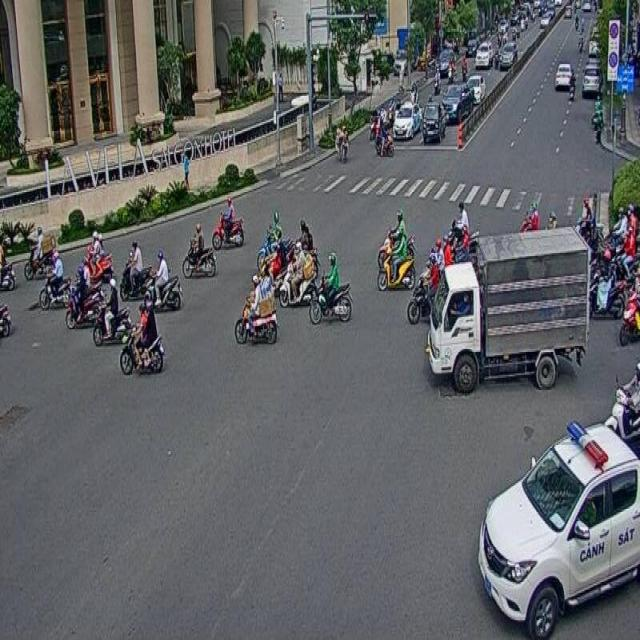car: (478, 424, 638, 636), (427, 226, 590, 396)
motorcycle: (120, 299, 167, 373), (310, 250, 352, 324), (378, 212, 416, 289), (65, 255, 105, 328), (236, 274, 278, 343), (92, 274, 130, 344), (278, 241, 316, 308), (144, 248, 182, 310), (119, 236, 155, 300), (38, 248, 72, 308), (182, 221, 216, 280), (211, 195, 243, 253), (80, 230, 114, 284), (24, 224, 57, 279)
